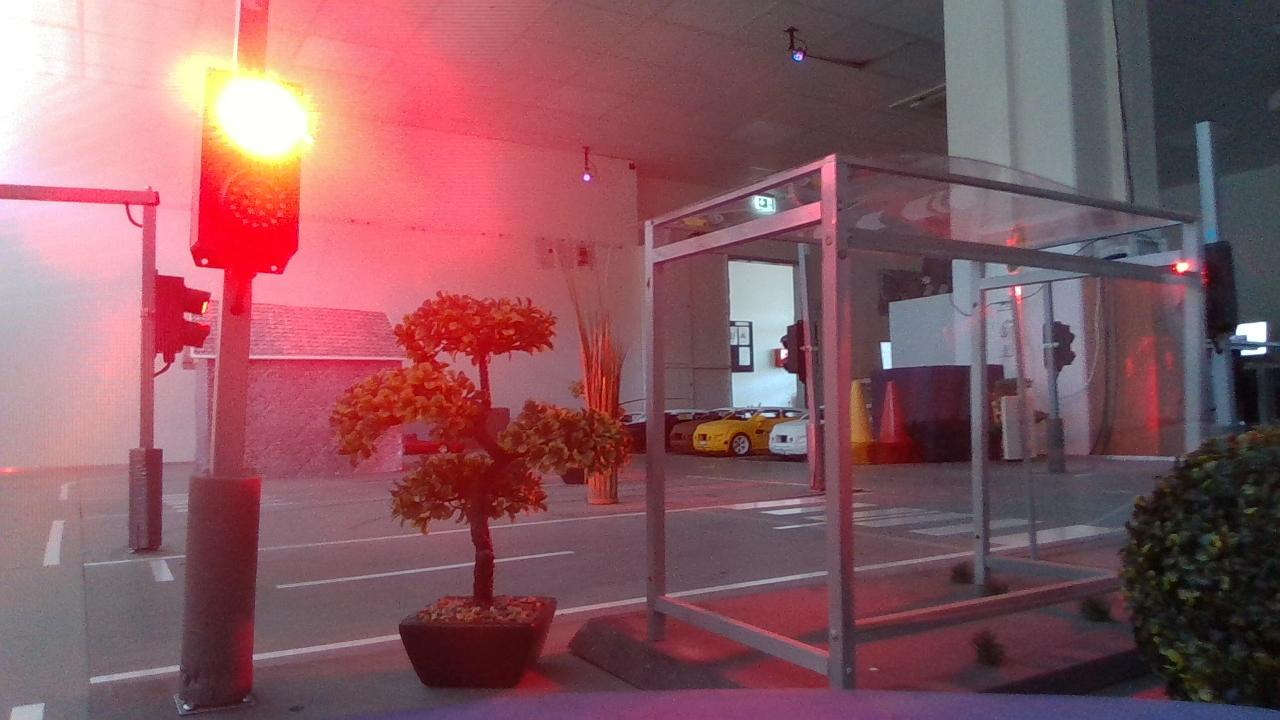traffic_light_red: (159, 42, 325, 293)
